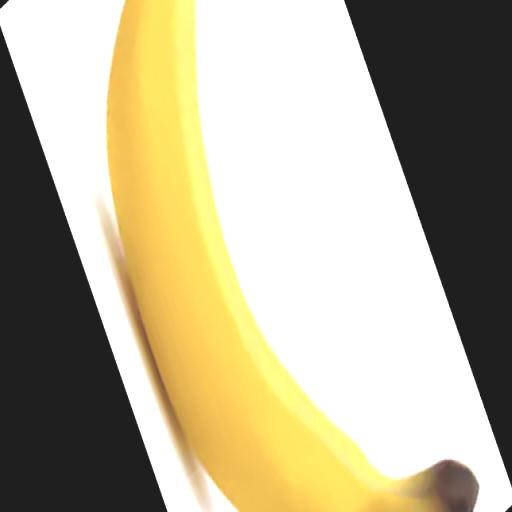banana-ripe: (82, 0, 492, 507)
